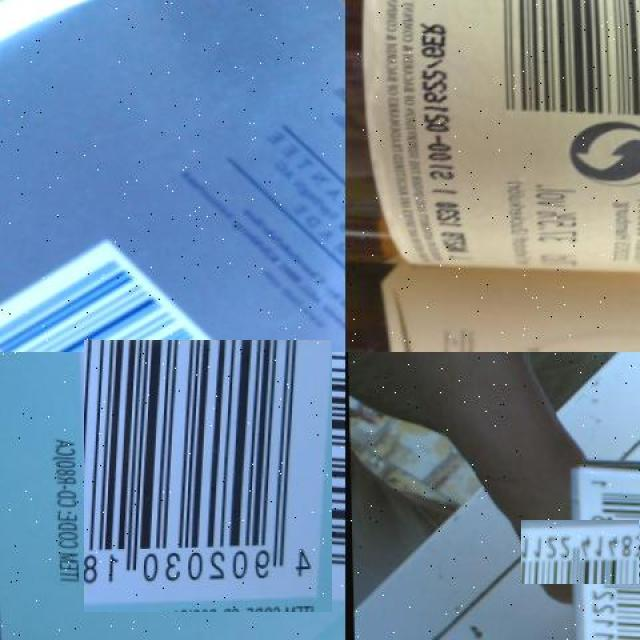Barcode: (78, 346, 339, 606), (0, 226, 337, 352), (460, 0, 640, 124), (548, 492, 640, 612)
